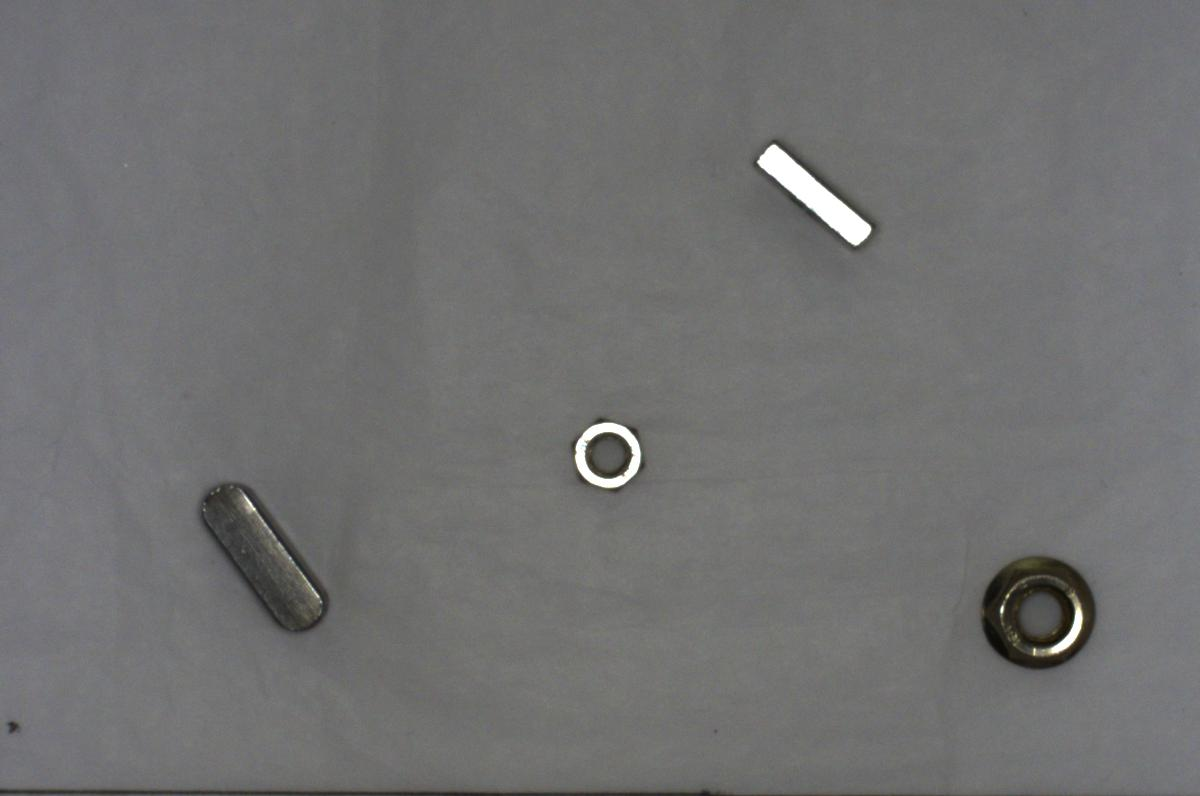Flange nut: (972, 541, 1104, 673)
Hexagon nut: (557, 412, 647, 496)
Keybar: (192, 474, 332, 636)
Rectangular nut: (754, 135, 875, 260)
